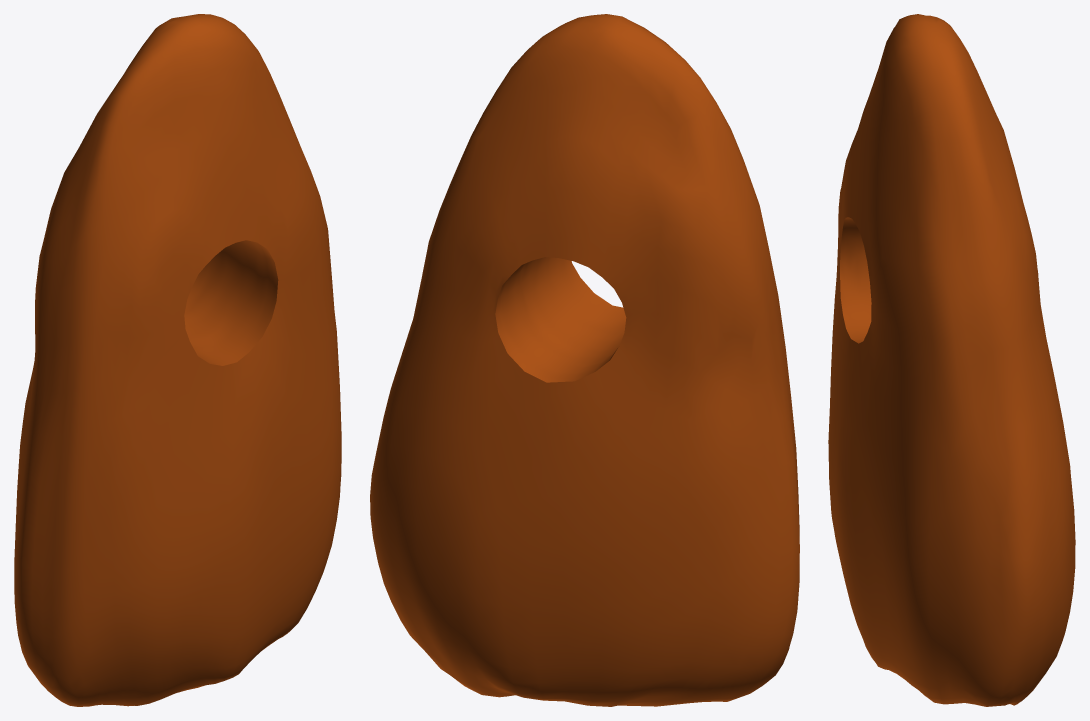
Rendered from Fantasy_Rune.fbx.
3 renders of one model, left to right at view 1: azimuth 30°, elevation 25°; view 2: azimuth 150°, elevation 25°; view 3: azimuth 270°, elevation 25°, orthographic. The views are drawn at different scales.
Visible parts, largest first — view 1: Rune; view 2: Rune; view 3: Rune.
Part boxes in pixels (x1,y1,x2,y2): Rune: [14, 14, 341, 706]; Rune: [370, 14, 799, 706]; Rune: [828, 14, 1075, 706].
Size of the model in its own units: 18.17 by 31.62 by 10.85.
